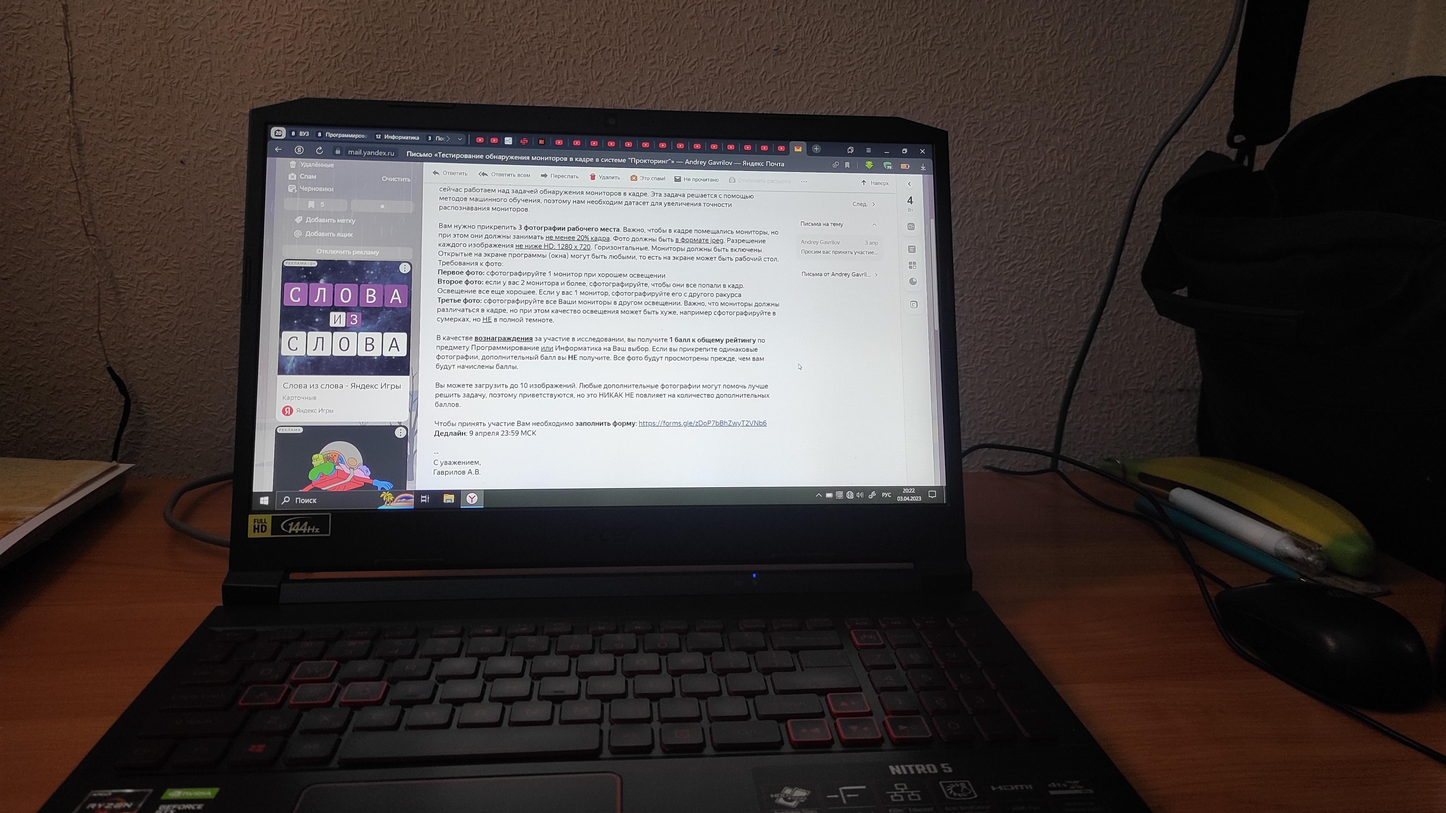monitor: (221, 92, 980, 578)
